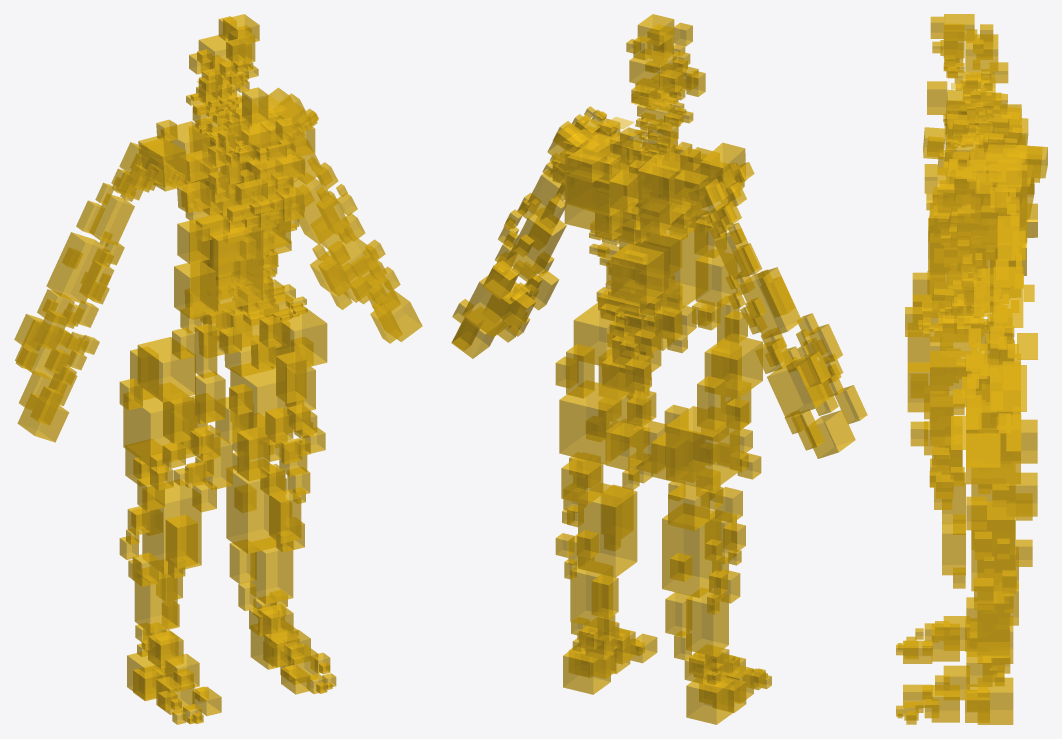
The model's file is human_cube_hologram.glb.
The picture shows the model from 3 angles, left to right: view 1: azimuth 30°, elevation 25°; view 2: azimuth 150°, elevation 25°; view 3: azimuth 270°, elevation 25°; orthographic projection.
Visible parts, largest first — view 1: Object_2; view 2: Object_2; view 3: Object_2.
Boxes of the visible parts, box(x1,y1,x2,y2) form: Object_2: box(14, 14, 422, 724); Object_2: box(451, 14, 867, 724); Object_2: box(896, 14, 1047, 724).
Bounding box in the file's own units: 12.78 × 20.62 × 4.22.
